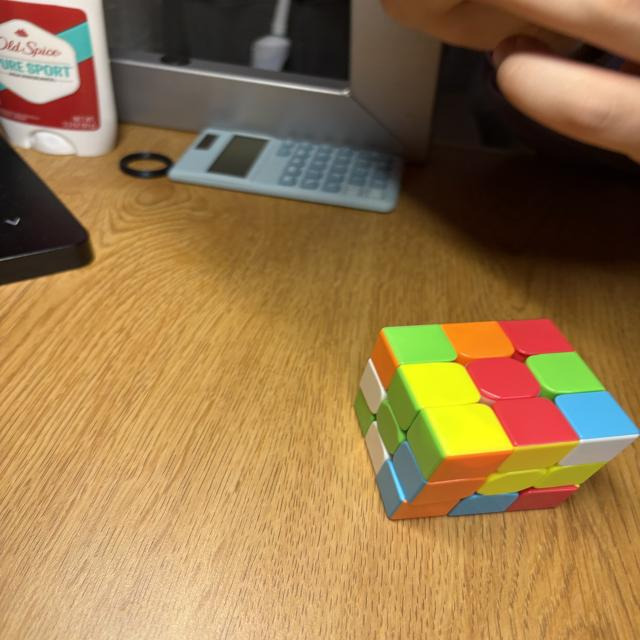Rubiks Cube: (351, 318, 638, 518)
